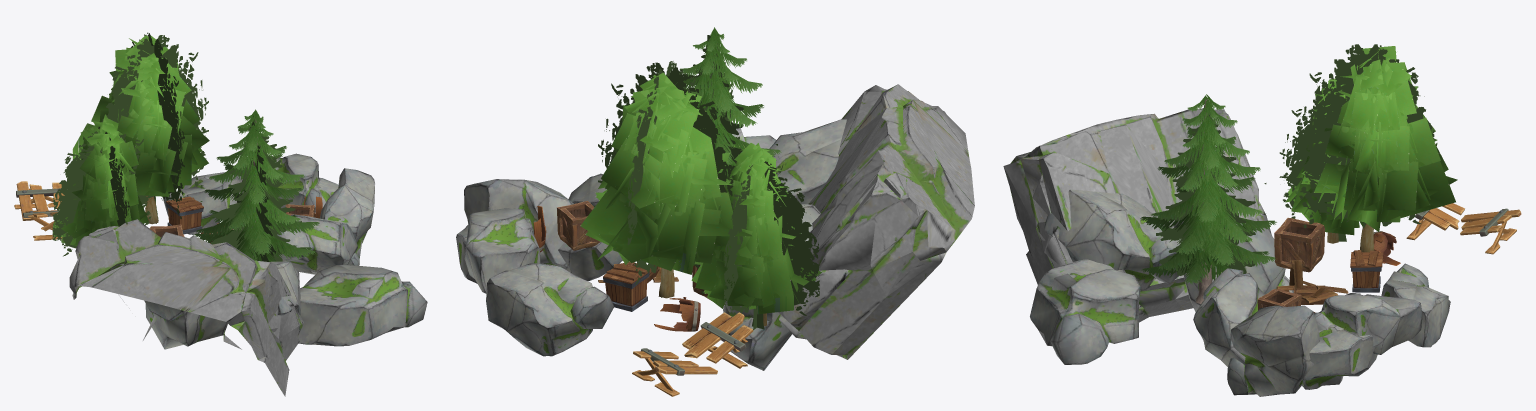
The model's file is MainCityDecor_QuestBoard_Ruins.glb.
3 renders of one model, left to right at view 1: azimuth 30°, elevation 25°; view 2: azimuth 150°, elevation 25°; view 3: azimuth 270°, elevation 25°, orthographic. The views are drawn at different scales.
Visible parts, largest first — view 1: EnvCampsite_Detail__Stone__11__u8186161619542915876, EnvDetail__Bush___17__u8971534015486475044, SM_Gray_Stone_Small_03_LOD0__u3376056352474381092, EnvCampsite_Detail__Tree__3__un7847705709440550108, EnvDetail__Bush___19__u1940044428088425252, Shadow__un4180778133961131228, Shadow__u5213730134956423972, SM_Gray_Stone_Small_03_LOD0__u4357323714001746724, SM_Gray_Stone_Small_03_LOD0__u8079507825340824356, Shadow__u6536827021349731108, SM_Gray_Stone_Small_02_LOD0__u5642230132456274724, SM_Gray_Stone_Small_03_LOD0__u1996032562822429476 (+4 smaller); view 2: EnvCampsite_Detail__Stone__11__u8186161619542915876, EnvDetail__Bush___17__u8971534015486475044, EnvDetail__Bush___19__u1940044428088425252, SM_Gray_Stone_Small_03_LOD0__u1996032562822429476, Shadow__u5213730134956423972, SM_Gray_Stone_Small_03_LOD0__un6630357648614311132, EnvCampsite_Detail__Tree__3__un7847705709440550108, Shadow__un4180778133961131228, SM_Gray_Stone_Small_03_LOD0__u8079507825340824356, EnvCampsite_Detail__Table__2_1__u1906865198430272292, SM_Gray_Stone_Small_03_LOD0__un1128785221314299100, SM_Gray_Stone_Small_02_LOD0__u5642230132456274724 (+5 smaller); view 3: EnvCampsite_Detail__Stone__11__u8186161619542915876, EnvDetail__Bush___17__u8971534015486475044, EnvCampsite_Detail__Tree__3__un7847705709440550108, SM_Gray_Stone_Small_03_LOD0__u3376056352474381092, SM_Gray_Stone_Small_03_LOD0__un1128785221314299100, SM_Gray_Stone_Small_03_LOD0__u8079507825340824356, Shadow__un4180778133961131228, SM_Gray_Stone_Small_03_LOD0__un6630357648614311132, SM_Gray_Stone_Small_03_LOD0__u4357323714001746724, SM_Gray_Stone_Small_03_LOD0__un6424583366722667740, SM_Gray_Stone_Small_03_LOD0__u1996032562822429476, EnvCampsite_Detail__Table__2_1__u1906865198430272292 (+9 smaller).
Part boxes in pixels (<box>): EnvCampsite_Detail__Stone__11__u8186161619542915876: <box>69,219,303,396</box>; EnvDetail__Bush___17__u8971534015486475044: <box>72,35,209,224</box>; SM_Gray_Stone_Small_03_LOD0__u3376056352474381092: <box>298,264,427,346</box>; EnvCampsite_Detail__Tree__3__un7847705709440550108: <box>193,109,319,261</box>; EnvDetail__Bush___19__u1940044428088425252: <box>52,114,148,246</box>; Shadow__un4180778133961131228: <box>101,32,208,223</box>; Shadow__u5213730134956423972: <box>52,126,153,256</box>; SM_Gray_Stone_Small_03_LOD0__u4357323714001746724: <box>277,214,357,274</box>; SM_Gray_Stone_Small_03_LOD0__u8079507825340824356: <box>319,168,374,265</box>; Shadow__u6536827021349731108: <box>200,116,301,261</box>; SM_Gray_Stone_Small_02_LOD0__u5642230132456274724: <box>144,300,227,349</box>; SM_Gray_Stone_Small_03_LOD0__u1996032562822429476: <box>162,172,243,234</box>; EnvCampsite_Detail__Stone__11__u8186161619542915876: <box>778,84,974,359</box>; EnvDetail__Bush___17__u8971534015486475044: <box>580,72,751,298</box>; EnvDetail__Bush___19__u1940044428088425252: <box>691,143,821,326</box>; SM_Gray_Stone_Small_03_LOD0__u1996032562822429476: <box>486,263,614,356</box>; Shadow__u5213730134956423972: <box>698,161,819,329</box>; SM_Gray_Stone_Small_03_LOD0__un6630357648614311132: <box>464,208,540,293</box>; EnvCampsite_Detail__Tree__3__un7847705709440550108: <box>679,27,789,190</box>; Shadow__un4180778133961131228: <box>598,61,733,297</box>; SM_Gray_Stone_Small_03_LOD0__u8079507825340824356: <box>464,179,573,269</box>; EnvCampsite_Detail__Table__2_1__u1906865198430272292: <box>632,312,753,396</box>; SM_Gray_Stone_Small_03_LOD0__un1128785221314299100: <box>769,119,846,204</box>; SM_Gray_Stone_Small_02_LOD0__u5642230132456274724: <box>723,204,820,370</box>; EnvCampsite_Detail__Stone__11__u8186161619542915876: <box>1003,108,1271,322</box>; EnvDetail__Bush___17__u8971534015486475044: <box>1301,46,1457,252</box>; EnvCampsite_Detail__Tree__3__un7847705709440550108: <box>1140,94,1276,303</box>; SM_Gray_Stone_Small_03_LOD0__u3376056352474381092: <box>1030,259,1140,364</box>; SM_Gray_Stone_Small_03_LOD0__un1128785221314299100: <box>1044,189,1180,290</box>; SM_Gray_Stone_Small_03_LOD0__u8079507825340824356: <box>1227,305,1319,396</box>; Shadow__un4180778133961131228: <box>1296,44,1434,228</box>; SM_Gray_Stone_Small_03_LOD0__un6630357648614311132: <box>1314,293,1422,354</box>; SM_Gray_Stone_Small_03_LOD0__u4357323714001746724: <box>1193,268,1264,366</box>; SM_Gray_Stone_Small_03_LOD0__un6424583366722667740: <box>1285,324,1377,389</box>; SM_Gray_Stone_Small_03_LOD0__u1996032562822429476: <box>1381,263,1450,347</box>; EnvCampsite_Detail__Table__2_1__u1906865198430272292: <box>1406,203,1521,254</box>.
Size of the model in its own units: 11.58 by 8.51 by 13.06.
Materials: 12 (12 with a texture image).
